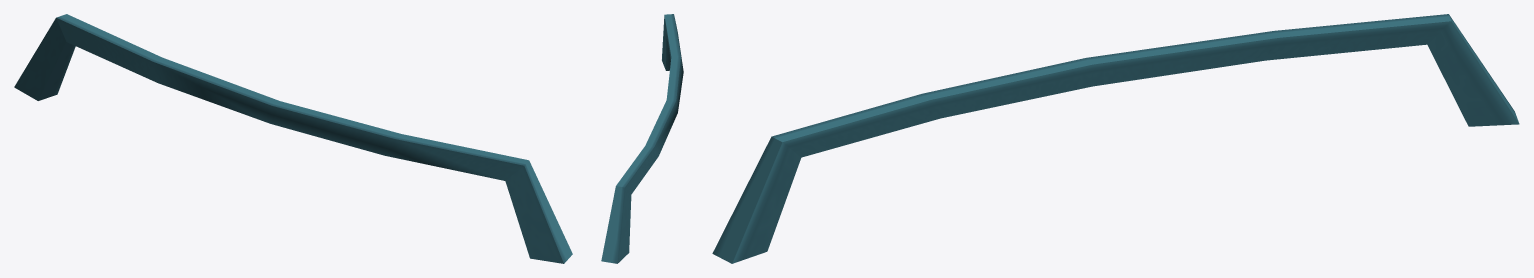
The model's file is lu_wanbian1.fbx.
3 renders of one model, left to right at view 1: azimuth 30°, elevation 25°; view 2: azimuth 150°, elevation 25°; view 3: azimuth 270°, elevation 25°, orthographic. The views are drawn at different scales.
Visible parts, largest first — view 1: lu_wanbian1; view 2: lu_wanbian1; view 3: lu_wanbian1.
Boxes of the visible parts, box(x1,y1,x2,y2) form: lu_wanbian1: box(14, 14, 572, 263); lu_wanbian1: box(601, 14, 683, 263); lu_wanbian1: box(712, 14, 1519, 263).
Size of the model in its own units: 1306 by 428 by 2921.
